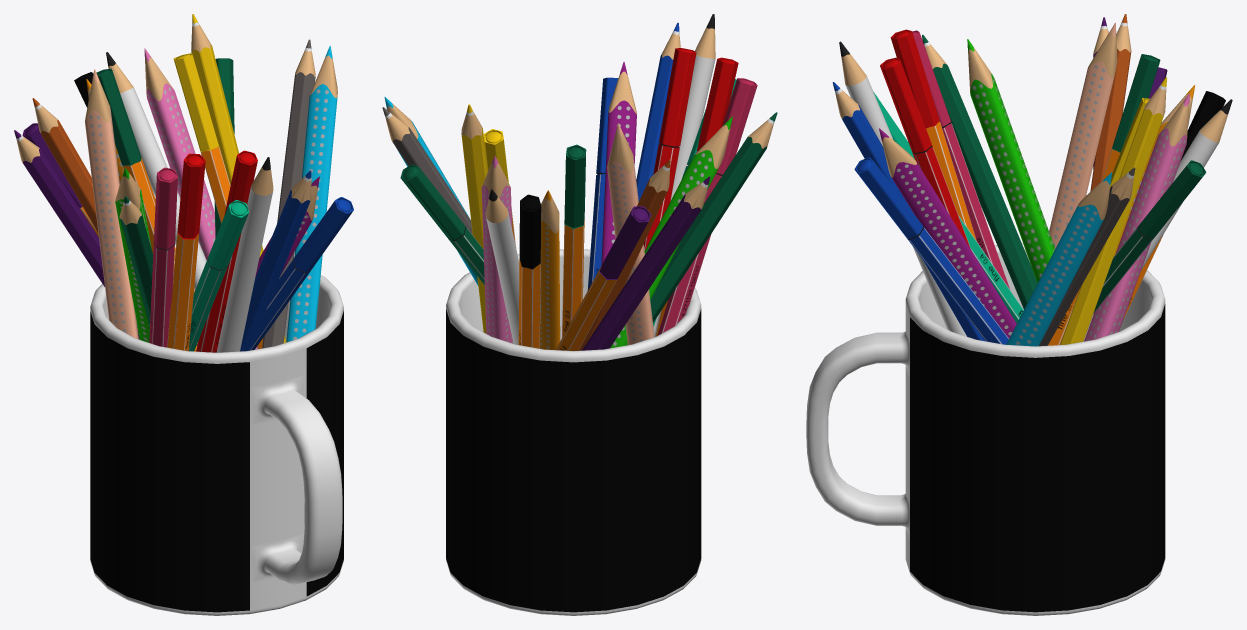
The model's file is cup_with_pencils_c.glb.
The picture shows the model from 3 angles, left to right: view 1: azimuth 30°, elevation 25°; view 2: azimuth 150°, elevation 25°; view 3: azimuth 270°, elevation 25°; orthographic projection. The views are drawn at different scales.
Parts seen in each view (by area): view 1: Tasse_1, Buntstift 2.001_21, Buntstift 2.002_22, Fineliner.005_13, Bleistift.002_20, Buntstift 2.006_25, Filzstift.005_12, Buntstift 1.002_15, Buntstift 1.006_19, Buntstift 1.004_17, Filzstift.002_6, Fineliner.002_7 (+11 smaller); view 2: Tasse_1, Buntstift 1.003_16, Buntstift 1.004_17, Fineliner.004_11, Fineliner.001_3, Buntstift 2.001_21, Fineliner.003_9, Filzstift.005_12, Filzstift.004_10, Buntstift 2.005_24, Buntstift 2.006_25, Filzstift.003_8 (+12 smaller); view 3: Tasse_1, Buntstift 2.003_23, Buntstift 1.003_16, Buntstift 2.004_14, Buntstift 2.001_21, Buntstift 2.006_25, Buntstift 2.002_22, Filzstift.002_6, Buntstift 1.005_18, Filzstift.004_10, Fineliner.005_13, Filzstift.003_8 (+10 smaller).
Part boxes in pixels (box(x1,y1,x2,y2)): Tasse_1: box(90, 275, 343, 615); Buntstift 2.001_21: box(85, 69, 138, 339); Buntstift 2.002_22: box(286, 45, 337, 342); Fineliner.005_13: box(167, 153, 205, 351); Bleistift.002_20: box(216, 157, 273, 352); Buntstift 2.006_25: box(144, 48, 257, 349); Filzstift.005_12: box(149, 167, 177, 347); Buntstift 1.002_15: box(240, 170, 311, 351); Buntstift 1.006_19: box(262, 39, 315, 348); Buntstift 1.004_17: box(14, 130, 139, 339); Filzstift.002_6: box(250, 197, 353, 350); Fineliner.002_7: box(173, 53, 263, 348); Tasse_1: box(446, 249, 701, 615); Buntstift 1.003_16: box(627, 112, 777, 345); Buntstift 1.004_17: box(582, 176, 710, 350); Fineliner.004_11: box(562, 144, 586, 337); Fineliner.001_3: box(556, 206, 651, 350); Buntstift 2.001_21: box(607, 123, 654, 344); Fineliner.003_9: box(518, 194, 541, 348); Filzstift.005_12: box(657, 78, 757, 335); Filzstift.004_10: box(643, 48, 696, 250); Buntstift 2.005_24: box(540, 190, 560, 349); Buntstift 2.006_25: box(481, 156, 513, 343); Filzstift.003_8: box(400, 164, 484, 284); Tasse_1: box(806, 243, 1165, 615); Buntstift 2.003_23: box(967, 39, 1054, 282); Buntstift 1.003_16: box(922, 35, 1037, 309); Buntstift 2.004_14: box(879, 128, 1016, 338); Buntstift 2.001_21: box(1049, 22, 1117, 248); Buntstift 2.006_25: box(1084, 93, 1189, 341); Buntstift 2.002_22: box(1006, 172, 1111, 346); Filzstift.002_6: box(854, 157, 1008, 344); Buntstift 1.005_18: box(1060, 77, 1167, 344); Filzstift.004_10: box(880, 57, 971, 249); Fineliner.005_13: box(890, 29, 976, 241); Filzstift.003_8: box(1093, 160, 1206, 313).
Bounding box in the file's own units: 0.1517 × 0.2233 × 0.1709.
Materials: 36 (23 with a texture image).
